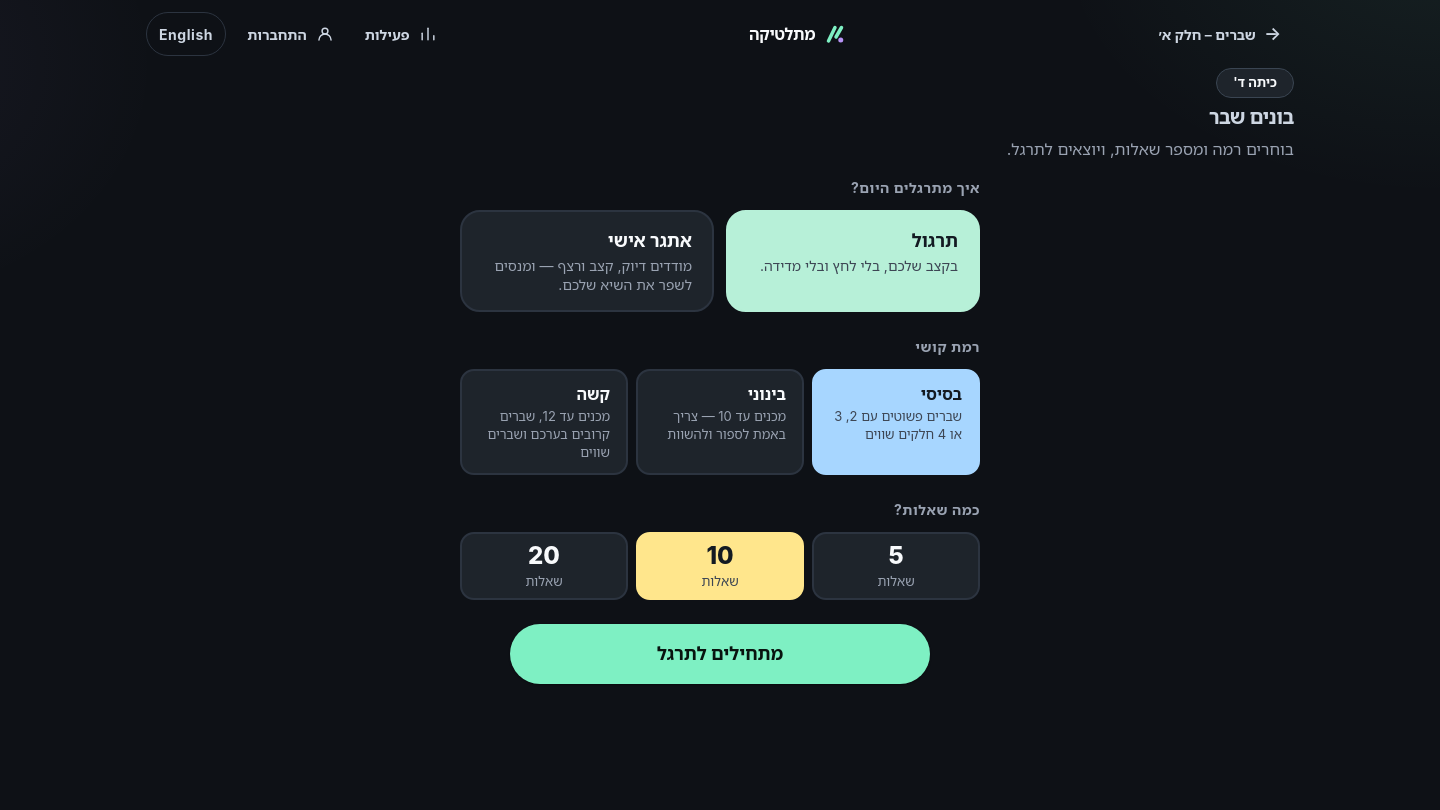
Scenario: Fractions Part 1 activities › offers practice depth and a timed personal challenge for build-a-fraction
This screenshot has width=1440, height=810.
Expected: the button with test id "tr-count-5" is shown, [812,532,980,600]
Expected: the button with test id "tr-count-10" is shown, [636,532,804,600]
Note: The shortest length stays practice-only, matching Multiplication Tables.
Click the button with test id "tr-mode-challenge". click: (587, 260)
box: [460,210,714,312]
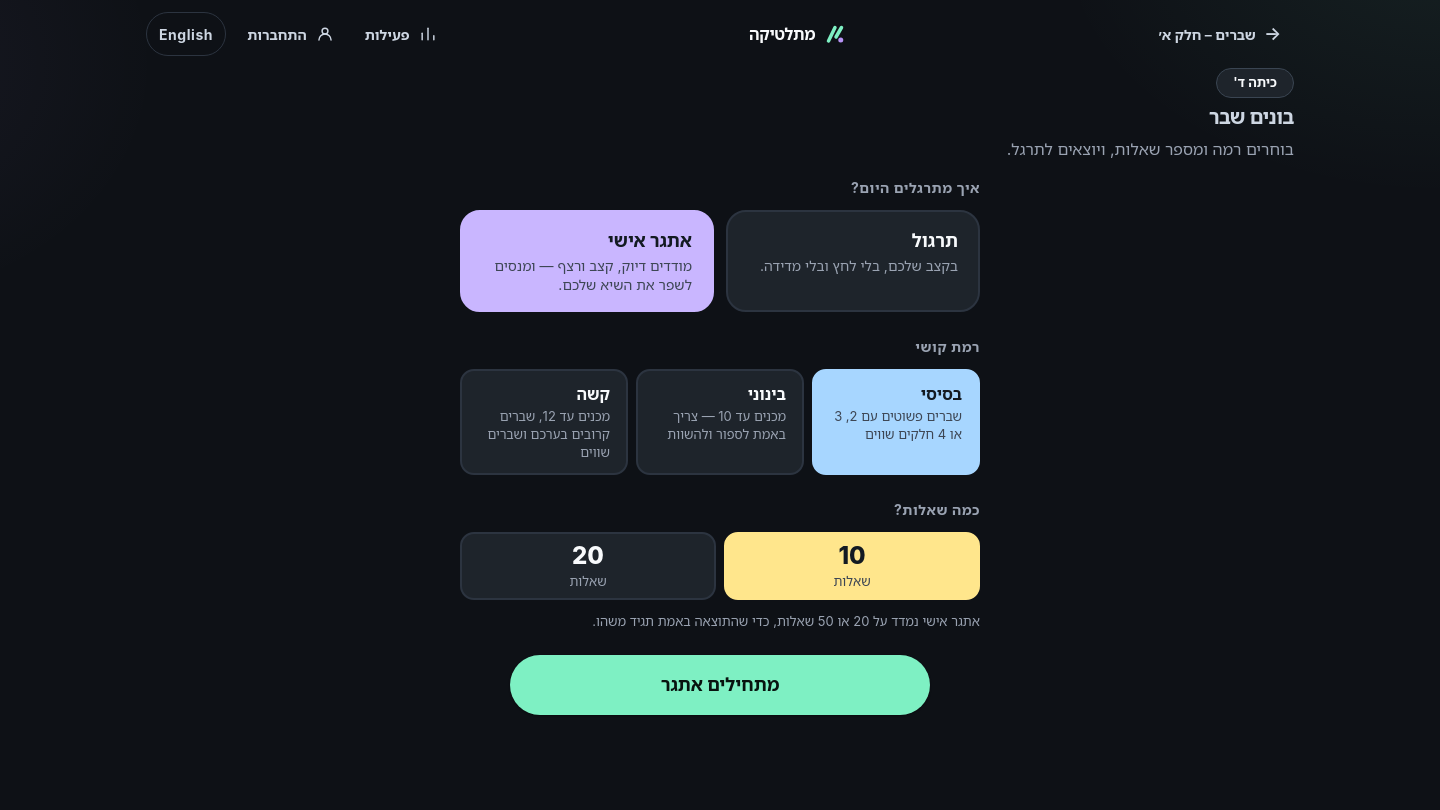
Expected: the button with test id "tr-count-10" is shown, [724,532,980,600]
Result: the button with test id "tr-count-5" is gone
